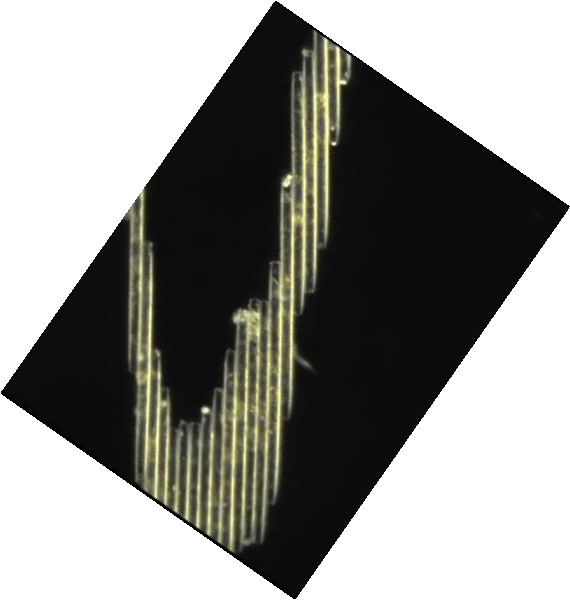bacilleria: (280, 173, 294, 423), (303, 49, 317, 295), (236, 308, 250, 553), (291, 72, 304, 315), (313, 27, 327, 251), (249, 298, 261, 542), (138, 242, 149, 486), (138, 241, 148, 490), (268, 260, 278, 502), (130, 200, 143, 377), (225, 349, 235, 555), (260, 300, 268, 542), (213, 387, 223, 546), (149, 350, 159, 498), (201, 406, 212, 538), (159, 386, 171, 507), (327, 42, 340, 146), (189, 423, 198, 525), (179, 422, 186, 518)
